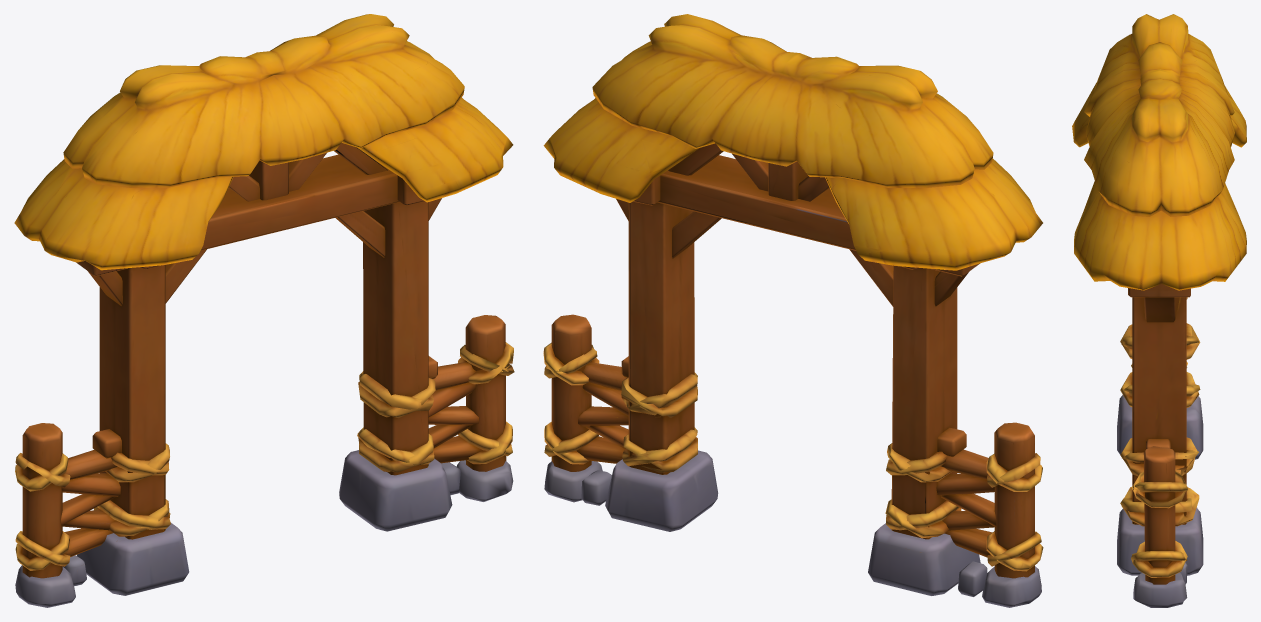
Rendered from gate_thatch.glb.
The picture shows the model from 3 angles, left to right: view 1: azimuth 30°, elevation 25°; view 2: azimuth 150°, elevation 25°; view 3: azimuth 270°, elevation 25°; orthographic projection. The views are drawn at different scales.
Parts seen in each view (by area): view 1: geometry_0; view 2: geometry_0; view 3: geometry_0.
Boxes of the visible parts, x1,y1,x2,y2 form: geometry_0: (14,14,514,607); geometry_0: (543,14,1043,607); geometry_0: (1072,14,1246,607).
Size of the model in its own units: 0.9512 by 0.9209 by 0.332.
1 material, 1 textured.
